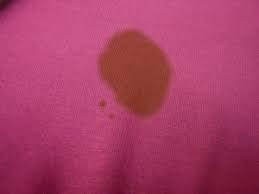mustard: (98, 28, 176, 123)
